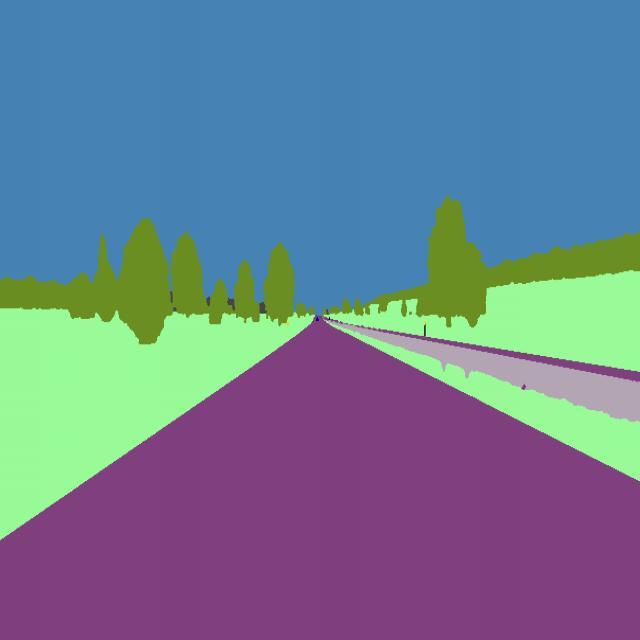safe: (313, 312, 321, 325)
